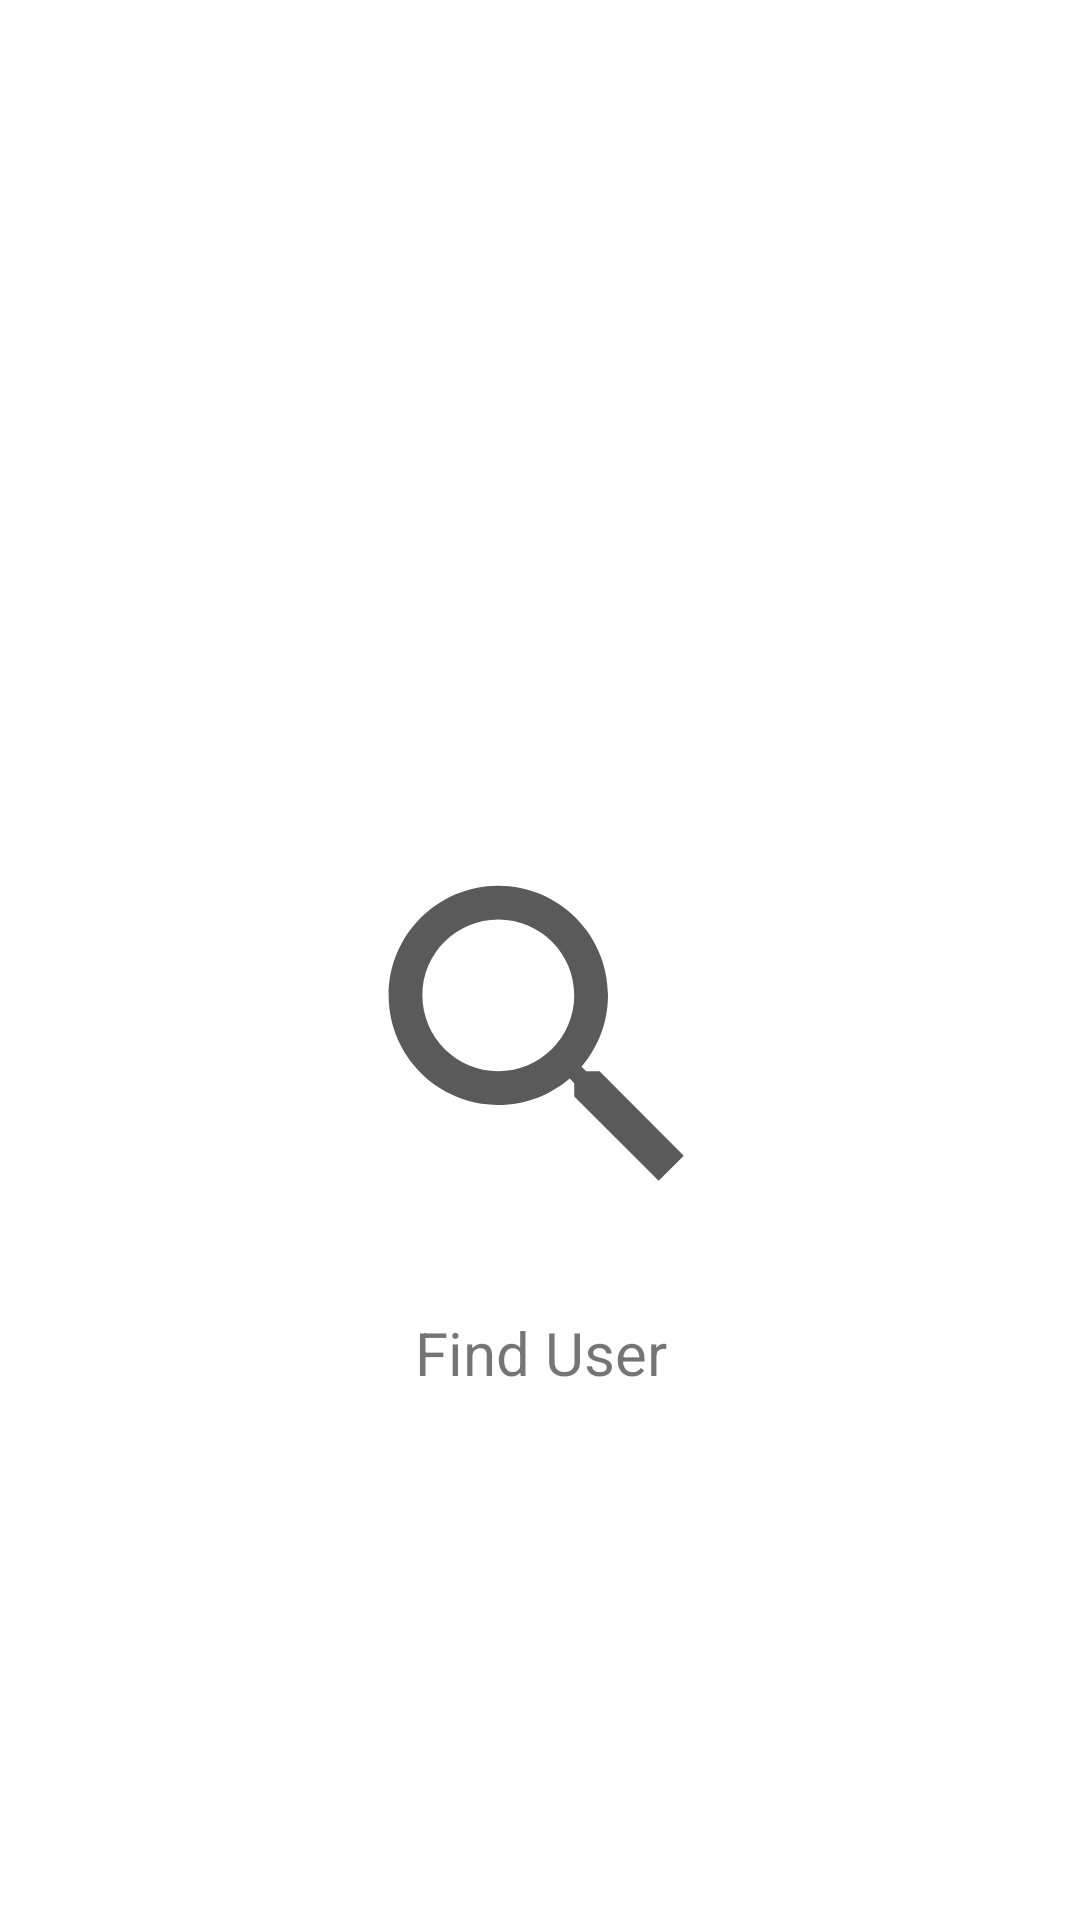

Named icons in this screenshot (1080 × 1920) and their centers, [x,y]:
search icon: [536,1033]
